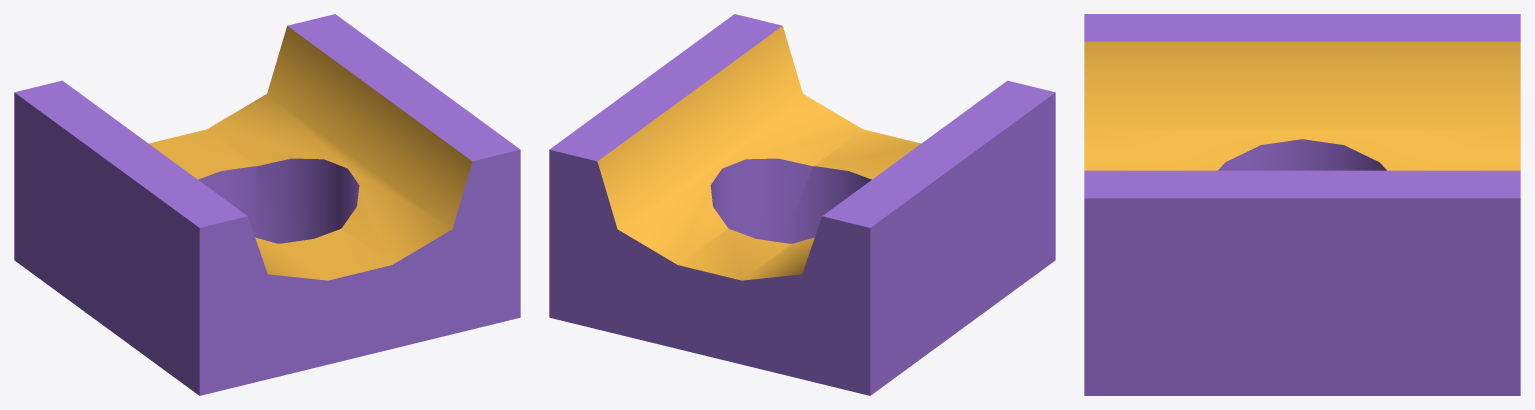
File: kenney-marble-straight-hole.glb
3 renders of one model, left to right at view 1: azimuth 30°, elevation 25°; view 2: azimuth 150°, elevation 25°; view 3: azimuth 270°, elevation 25°, orthographic. The views are drawn at different scales.
Parts seen in each view (by area): view 1: straight-hole; view 2: straight-hole; view 3: straight-hole.
Boxes of the visible parts, box(x1,y1,x2,y2) form: straight-hole: box(14, 14, 520, 395); straight-hole: box(549, 14, 1055, 395); straight-hole: box(1084, 14, 1520, 395).
Size of the model in its own units: 1 by 0.5001 by 1.
1 material, 1 textured.
